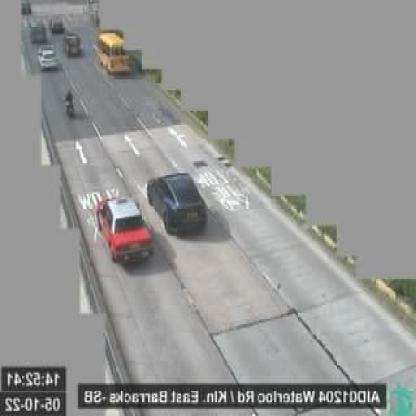Bus: (98, 29, 132, 73)
Car: (148, 172, 208, 235), (99, 198, 155, 262), (62, 31, 83, 59), (38, 47, 58, 71), (32, 19, 46, 42), (51, 17, 64, 33)
